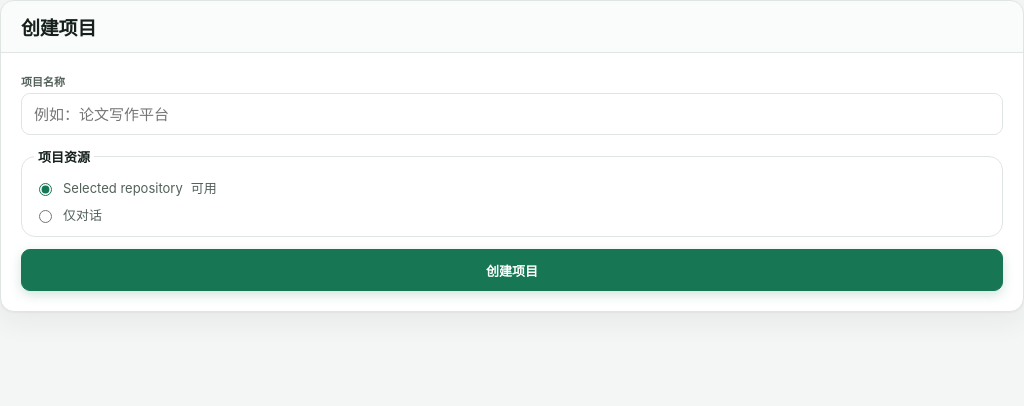
Test: CreateProjectForm › shows a stable readable rejection when a selected Profile becomes stale
Expected: the radio button labelled "Selected repository 可用" is checked, 39,182 -> 52,196
In the field labelled "项目名称": (512, 114) 21,93 -> 1003,135, type "Stale profile project"
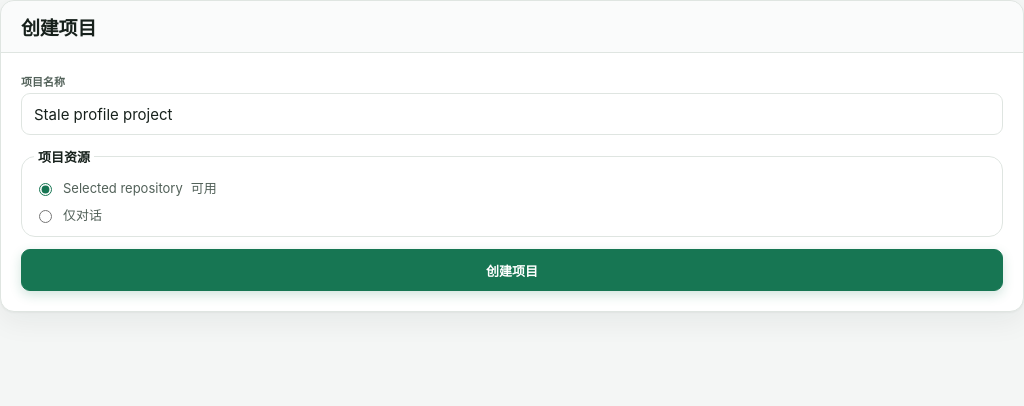
Click the button "创建项目": (512, 270) 21,249 -> 1003,291
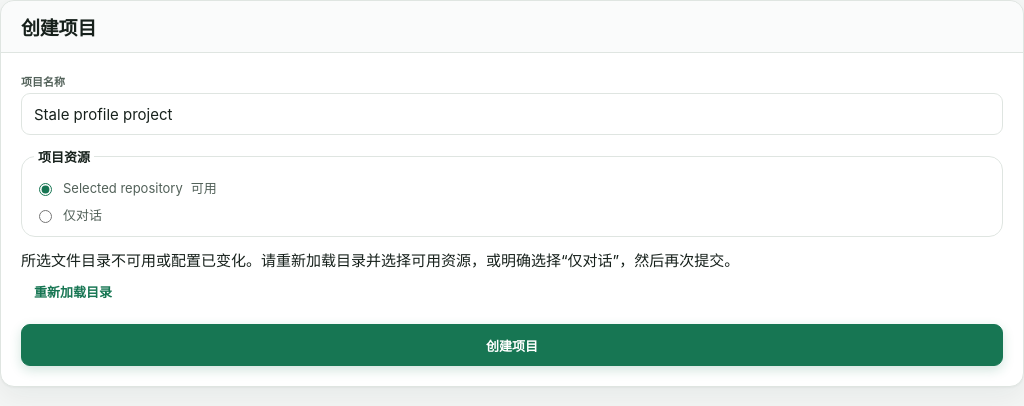
Expected: the message reads "所选文件目录不可用或配置已变化。请重新加载目录并选择可用资源，或明确选择“仅对话”，然后再次提交。 重新加载目录", 21,251 -> 739,270
